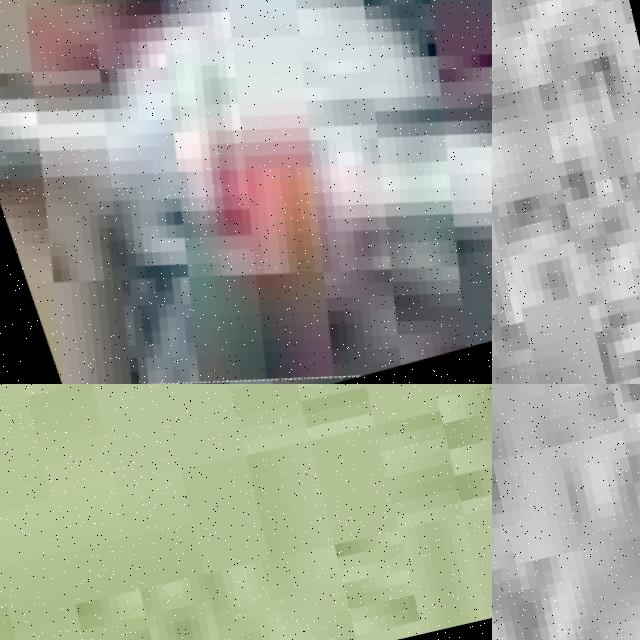drone: (0, 0, 492, 384)
